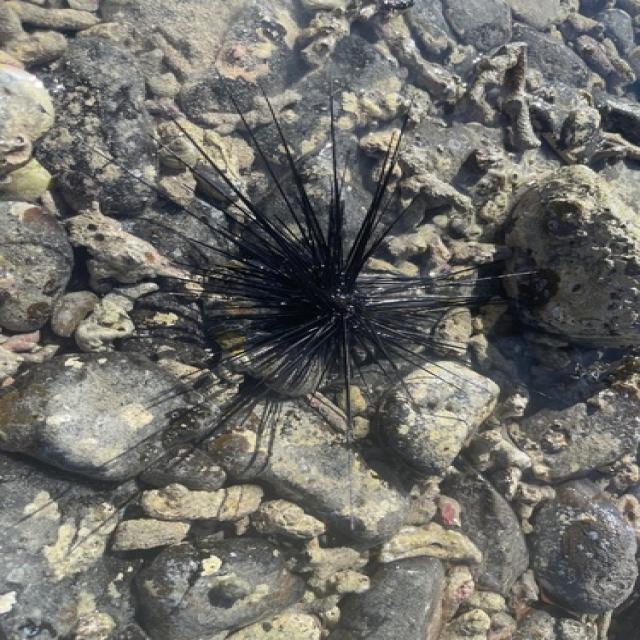Urchin: (82, 74, 534, 471)
